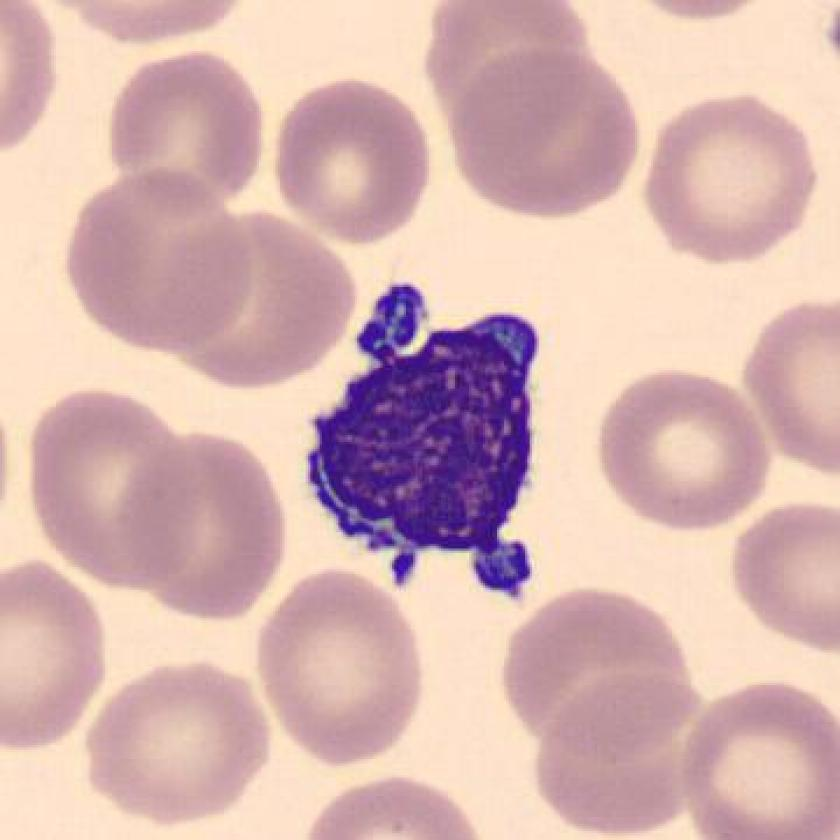lymphocyte: (290, 267, 568, 624)
